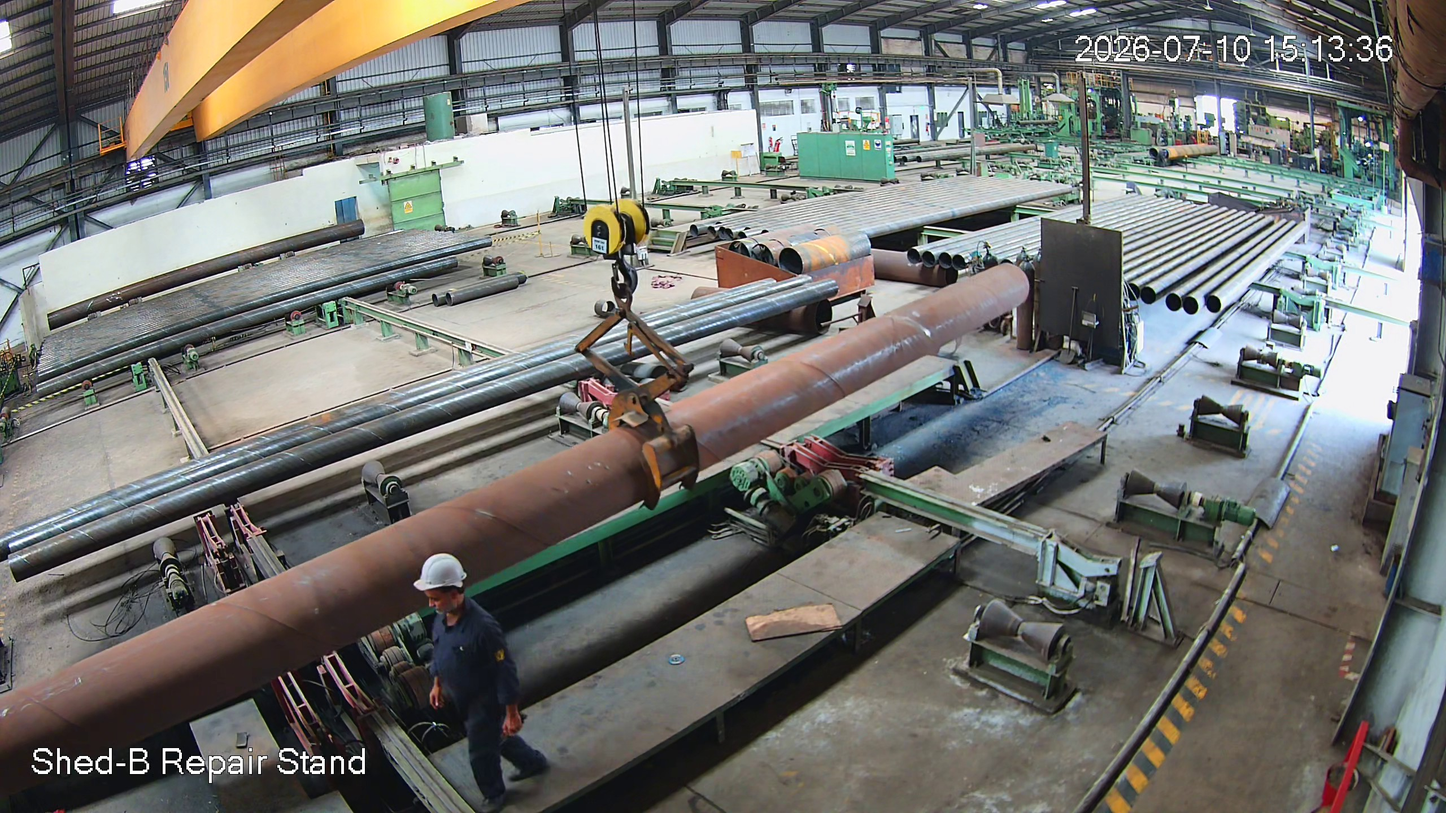Helmet: (406, 552, 494, 635)
Person: (391, 557, 558, 804)
